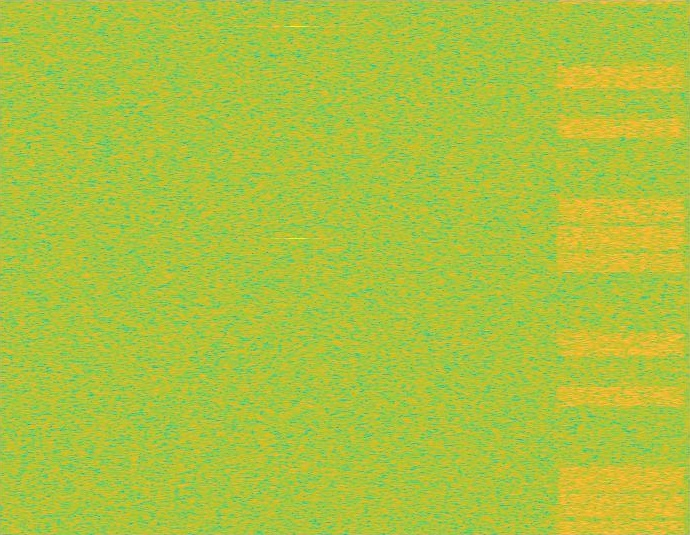LTE: (552, 0, 689, 534)
Radar: (290, 0, 303, 534)
